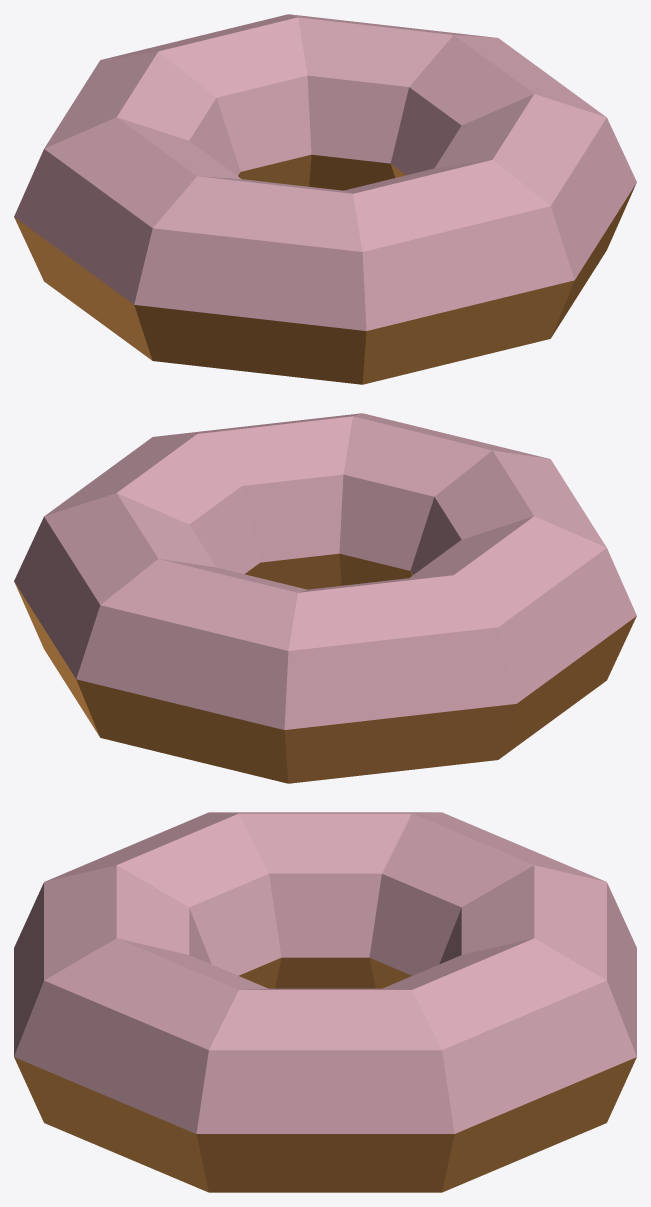
The model's file is Donut_02.glb.
The picture shows the model from 3 angles, top to bottom: view 1: azimuth 30°, elevation 25°; view 2: azimuth 150°, elevation 25°; view 3: azimuth 270°, elevation 25°; orthographic projection. The views are drawn at different scales.
Visible parts, largest first — view 1: Donut_02; view 2: Donut_02; view 3: Donut_02.
Part boxes in pixels (x1,y1,x2,y2): Donut_02: (14,14,636,384); Donut_02: (14,413,636,783); Donut_02: (14,812,636,1192).
Size of the model in its own units: 0.132 by 0.0471 by 0.132.
Materials: 1 (1 with a texture image).
